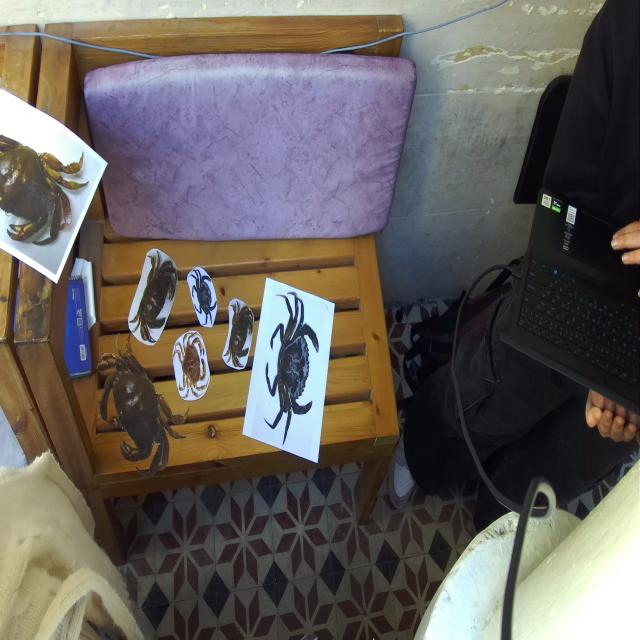European_Green_Crab: (257, 284, 325, 456), (186, 259, 221, 335)
